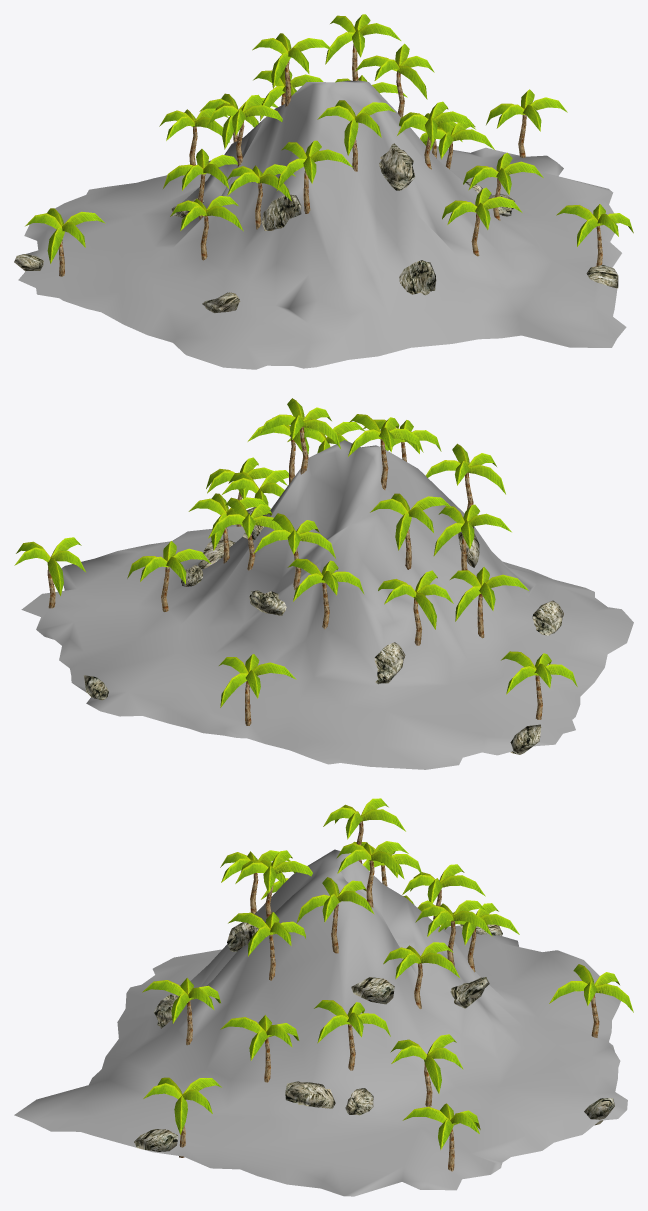
File: island_10.fbx
3 renders of one model, top to bottom at view 1: azimuth 30°, elevation 25°; view 2: azimuth 150°, elevation 25°; view 3: azimuth 270°, elevation 25°, orthographic. The views are drawn at different scales.
Parts seen in each view (by area): view 1: island_10; view 2: island_10; view 3: island_10.
Part boxes in pixels (<box>): island_10: <box>14,14,633,369</box>; island_10: <box>14,398,633,769</box>; island_10: <box>14,798,633,1196</box>.
Size of the model in its own units: 56.07 by 23.19 by 53.89.
